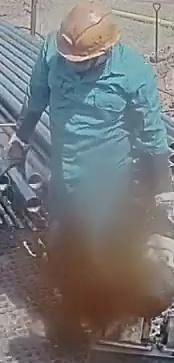gloves: (146, 184, 174, 239), (4, 128, 35, 169)
helmet: (55, 0, 120, 62)
vest: (33, 34, 160, 178)
